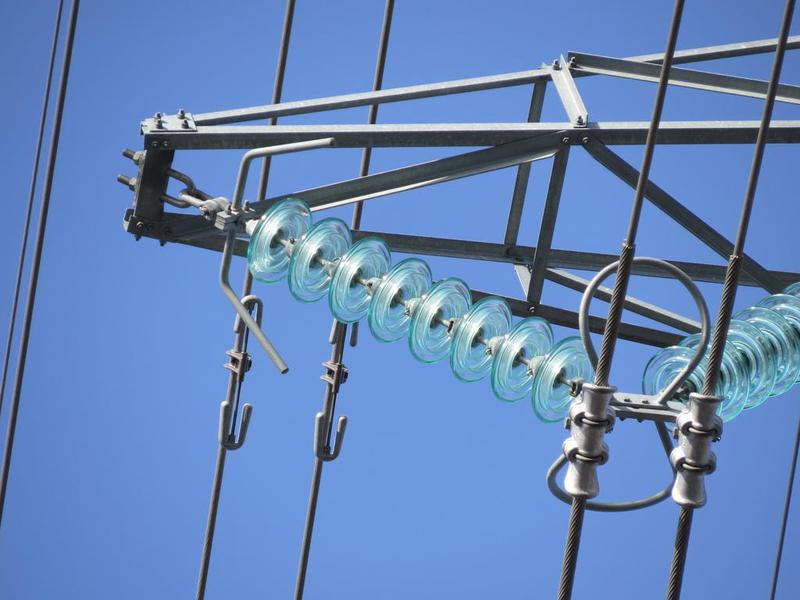isolator: (245, 195, 597, 422), (641, 279, 800, 434)
